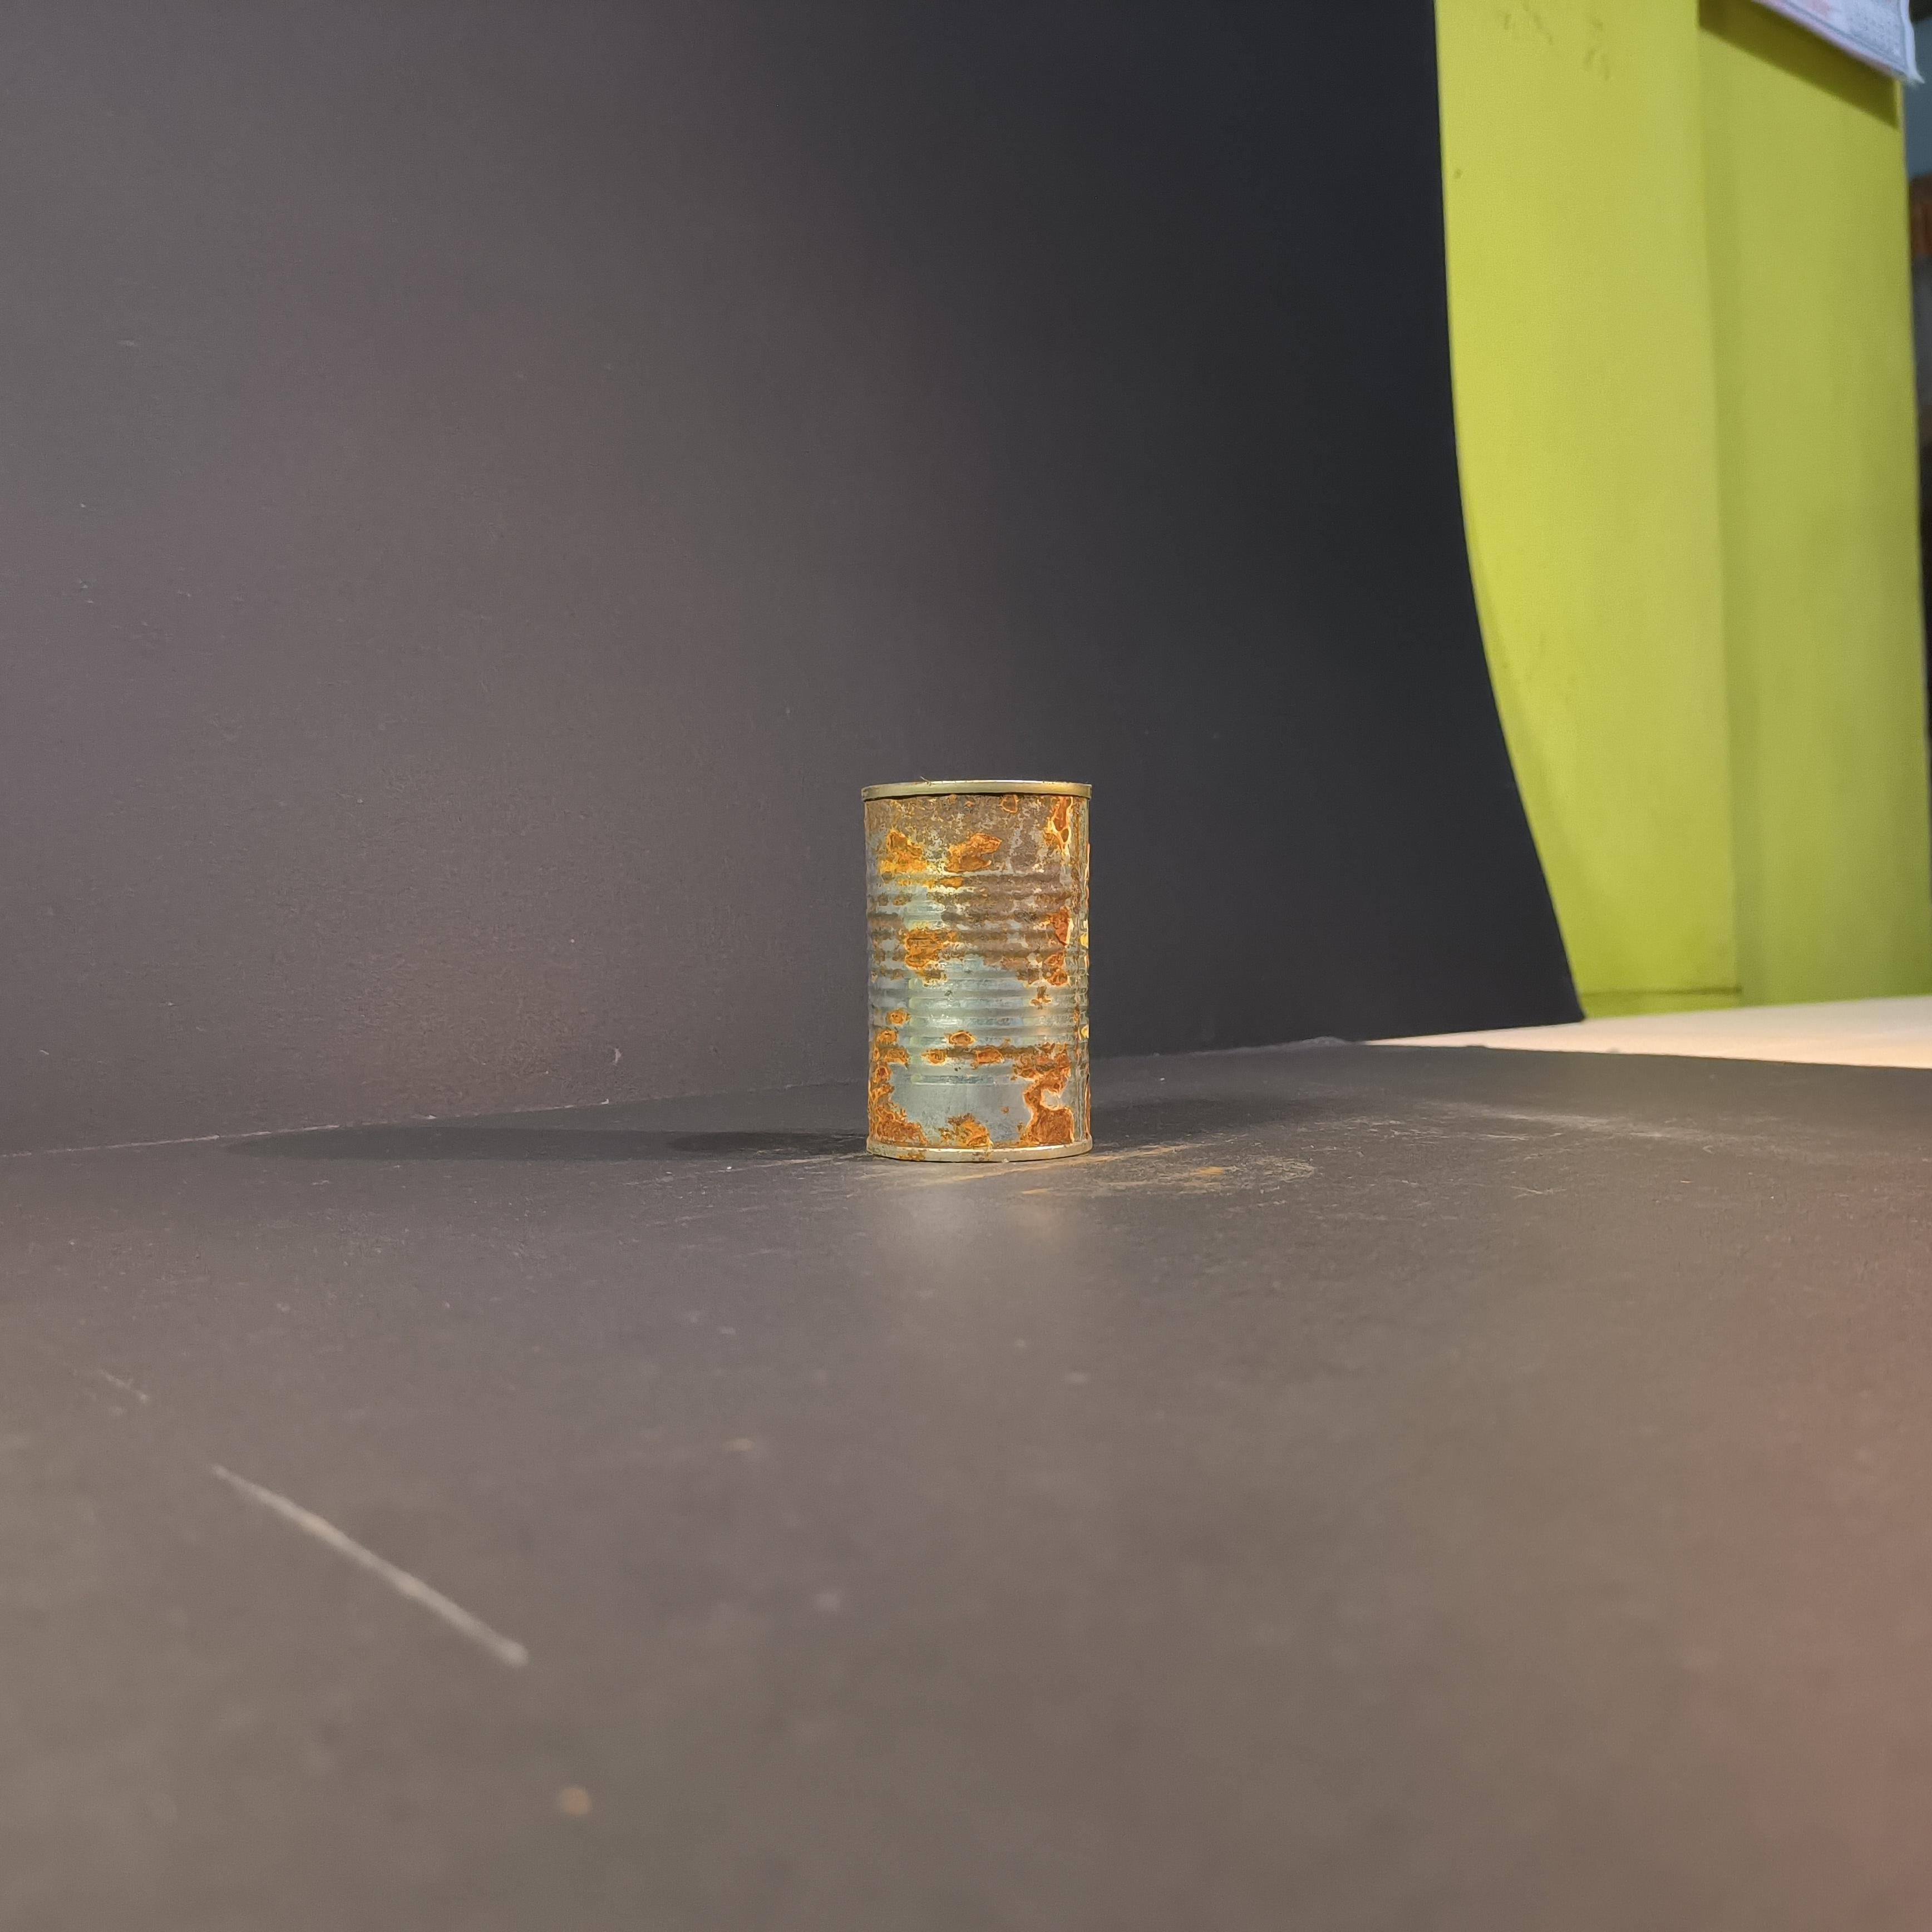Rusted: (842, 743, 1113, 1185)
